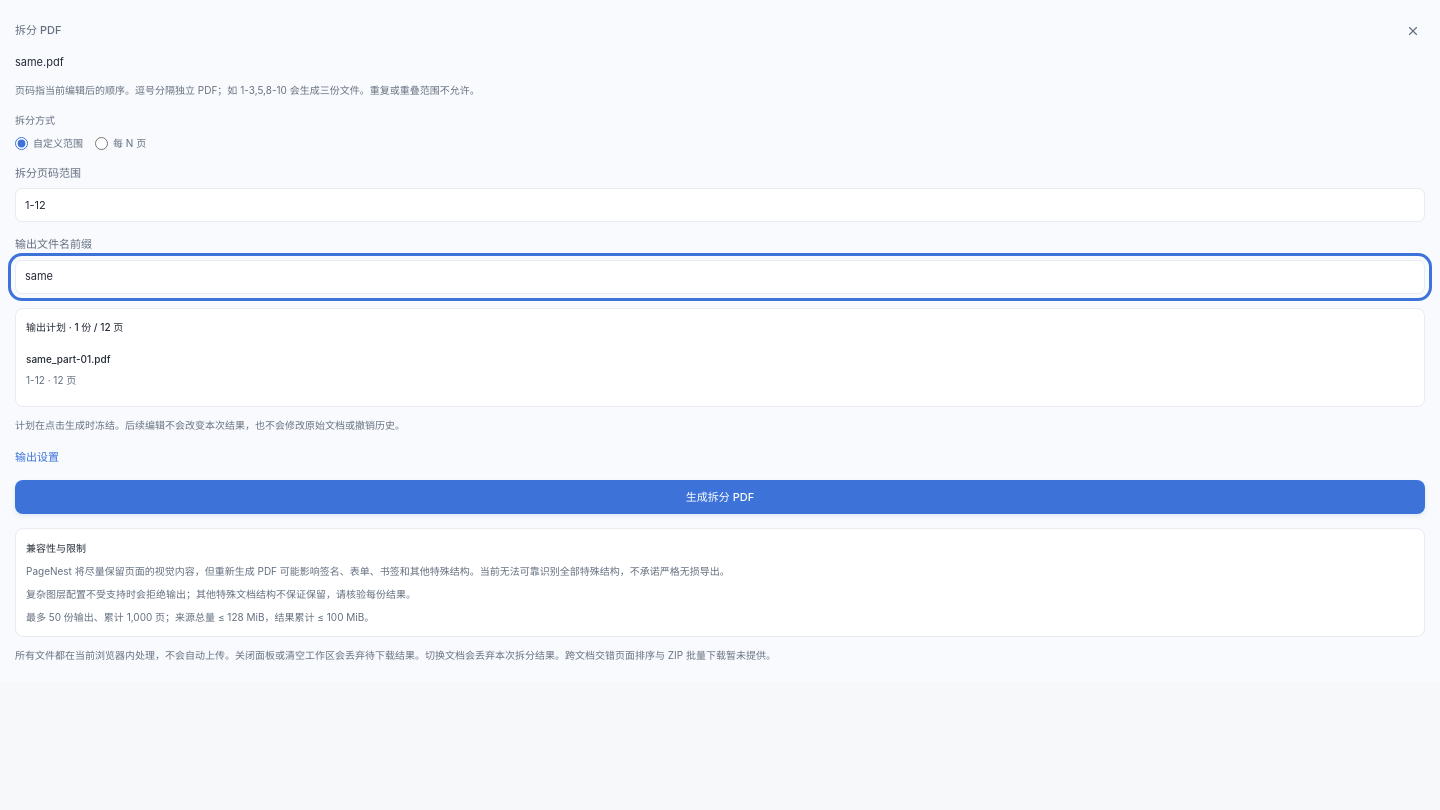
Scenario: PDF merge and split operation panel › rejects overlapping ranges before generation and makes comma-separated outputs explicit
Expected: the text "页码指当前编辑后的顺序。逗号分隔独立 PDF；如 1-3,5,8-10 会生成三份文件。重复或重叠范围不允许。" is shown, [15,84,480,96]
Replace the text in the field labelled "拆分页码范围" with "1-3,3-7" at (720, 205), box [15,188,1425,222]
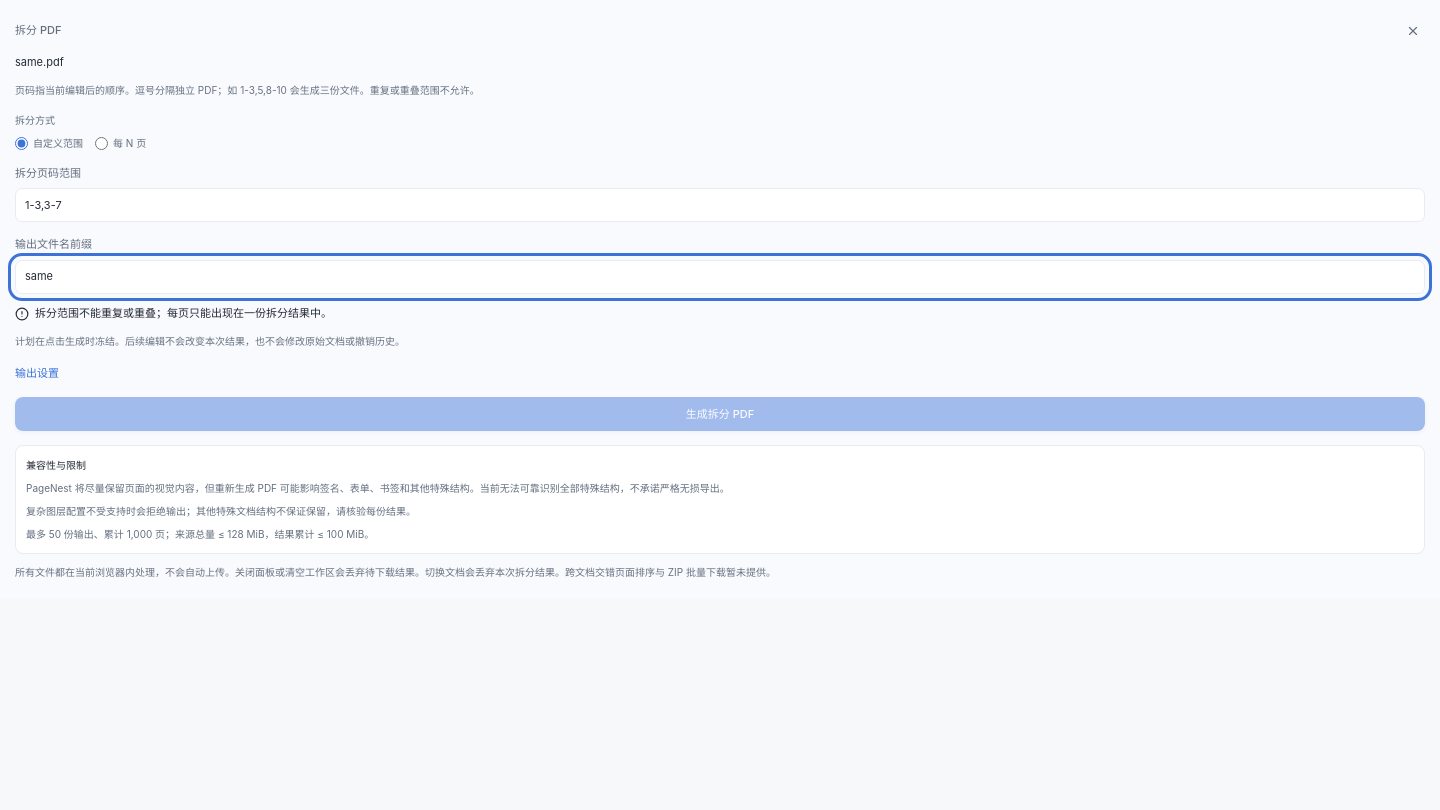
Expected: the message "拆分范围不能重复或重叠；每页只能出现在一份拆分结果中。" is shown, [15,306,332,321]
Expected: the button "生成拆分 PDF" is disabled, [15,397,1425,431]
Submit the form named "生成拆分 PDF", box [15,53,1425,431]
Replace the text in the field labelled "拆分页码范围" with "1-3,5,8-10" at (720, 205), box [15,188,1425,222]
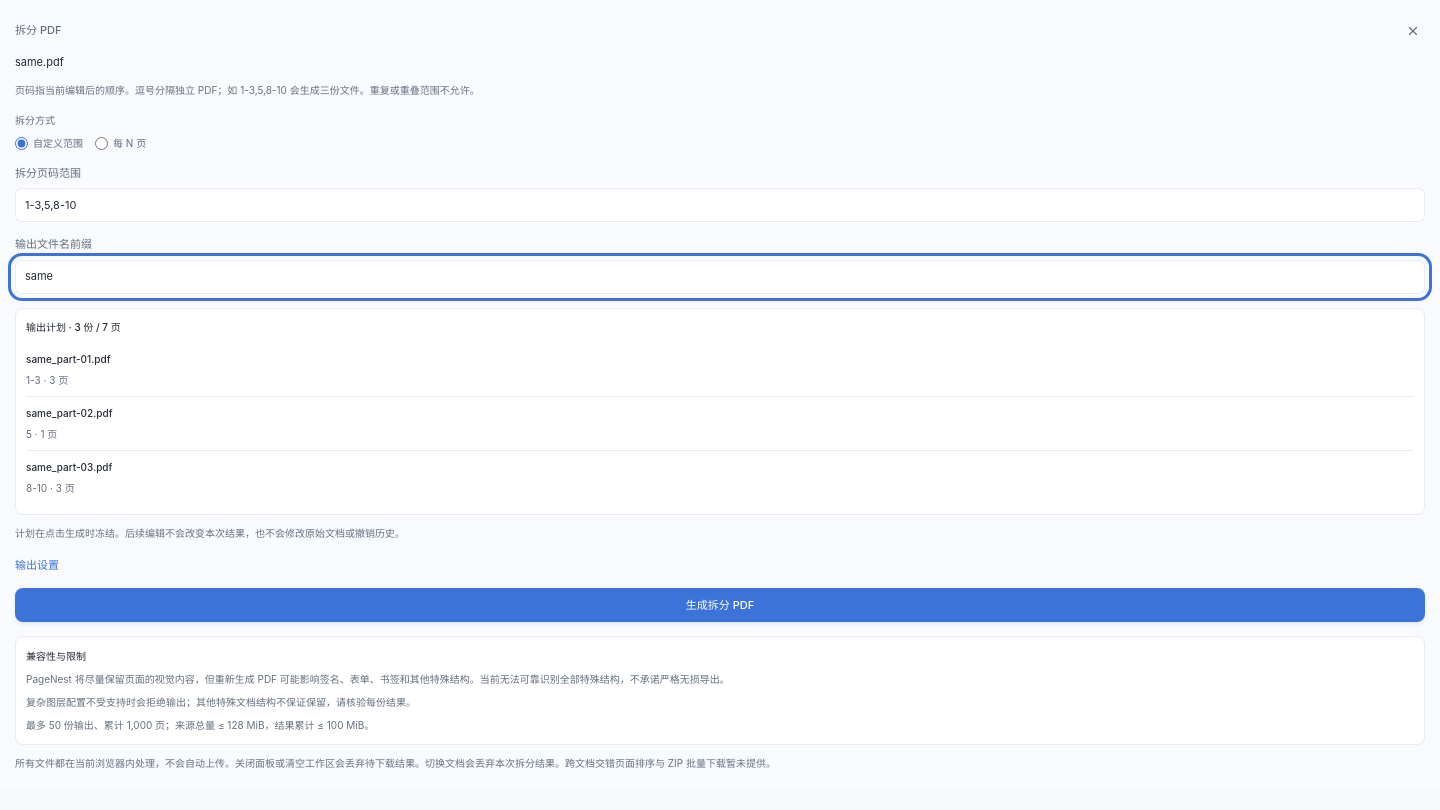
Expected: the number of list items is 3, [26,353,110,386]; [26,396,1414,450]; [26,450,1414,504]
Expected: the heading "输出计划 · 3 份 / 7 页" is shown, [26,321,121,333]
